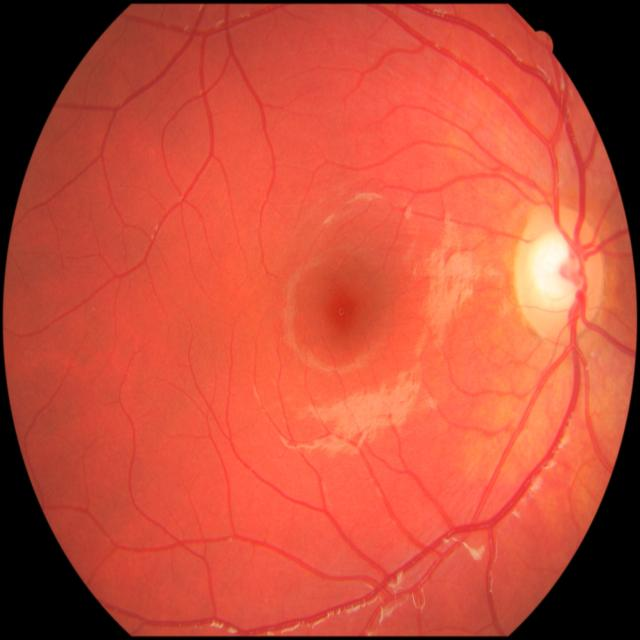OC: (529, 230, 582, 307)
OD: (514, 206, 608, 340)
